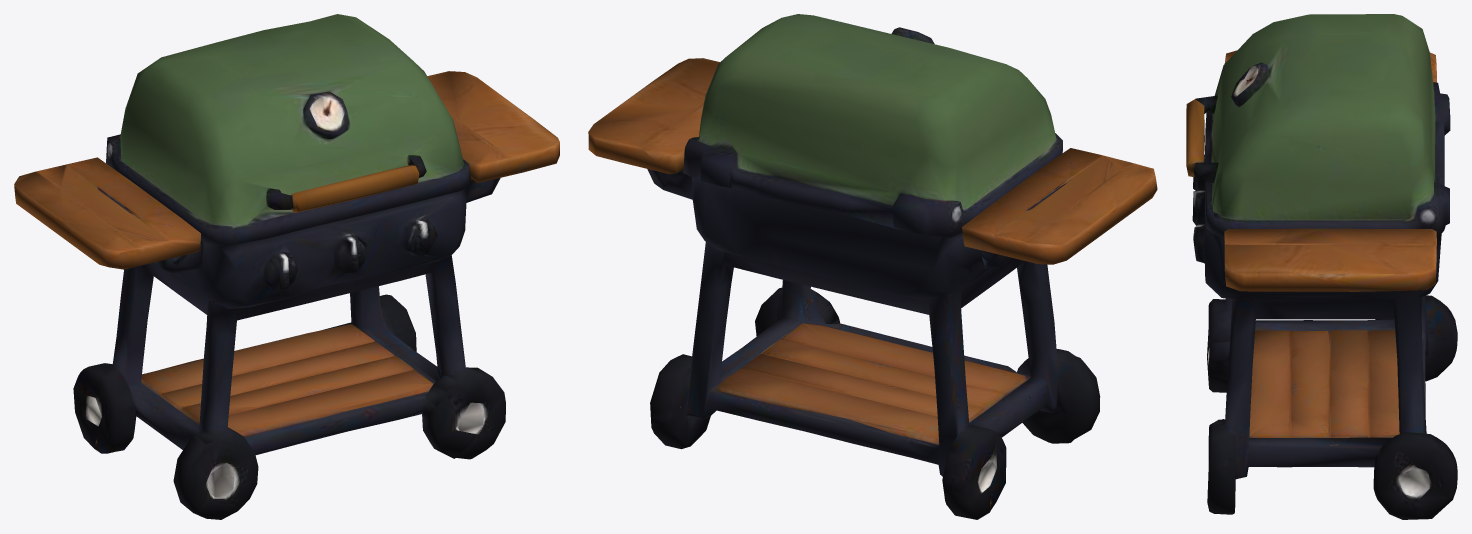
File: bbq.glb
3 renders of one model, left to right at view 1: azimuth 30°, elevation 25°; view 2: azimuth 150°, elevation 25°; view 3: azimuth 270°, elevation 25°, orthographic. The views are drawn at different scales.
Visible parts, largest first — view 1: model; view 2: model; view 3: model.
Part boxes in pixels (box(x1,y1,x2,y2)): model: box(14, 14, 559, 519); model: box(588, 14, 1157, 519); model: box(1186, 14, 1457, 519).
Bounding box in the file's own units: 1.89 × 1.54 × 0.9582.
1 material, 1 textured.
